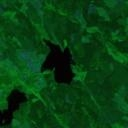alloviz: (39, 37, 76, 85), (1, 86, 30, 128)
